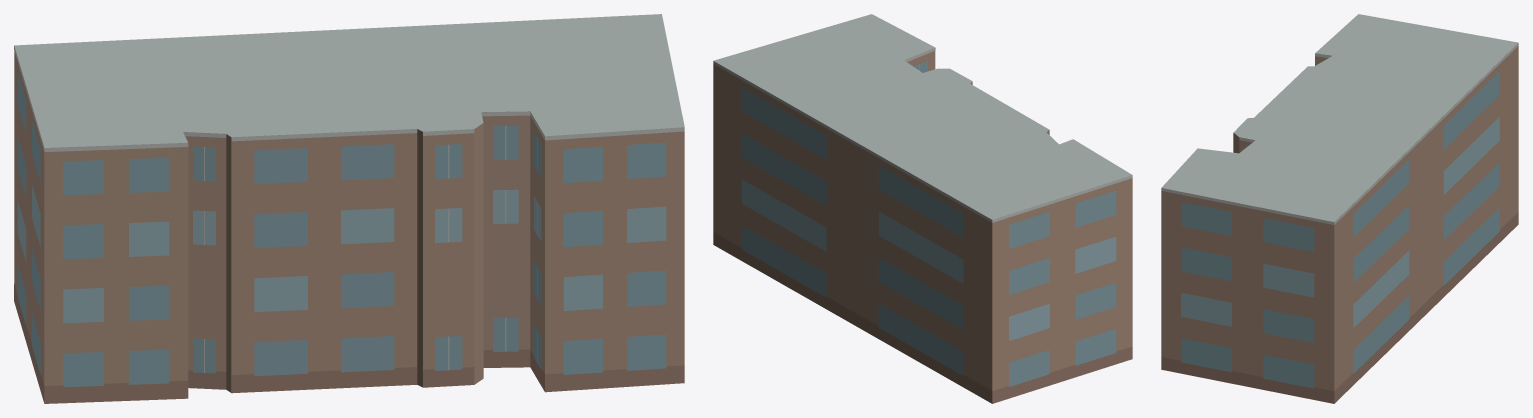
The model's file is survey-upis-32896609.glb.
The picture shows the model from 3 angles, left to right: view 1: azimuth 30°, elevation 25°; view 2: azimuth 150°, elevation 25°; view 3: azimuth 270°, elevation 25°; orthographic projection. The views are drawn at different scales.
Visible parts, largest first — view 1: survey-upis-32896609.tmp; view 2: survey-upis-32896609.tmp; view 3: survey-upis-32896609.tmp.
Boxes of the visible parts, x1,y1,x2,y2 form: survey-upis-32896609.tmp: (14, 14, 684, 403); survey-upis-32896609.tmp: (713, 14, 1132, 403); survey-upis-32896609.tmp: (1161, 14, 1518, 403).
Bounding box in the file's own units: 36.84 × 15 × 26.74.
